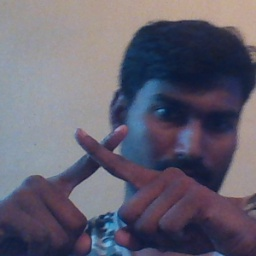X: (27, 113, 189, 236)
